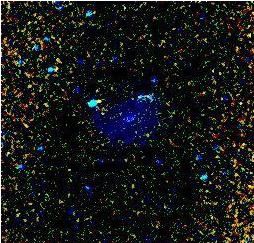star: (82, 85, 112, 115)
